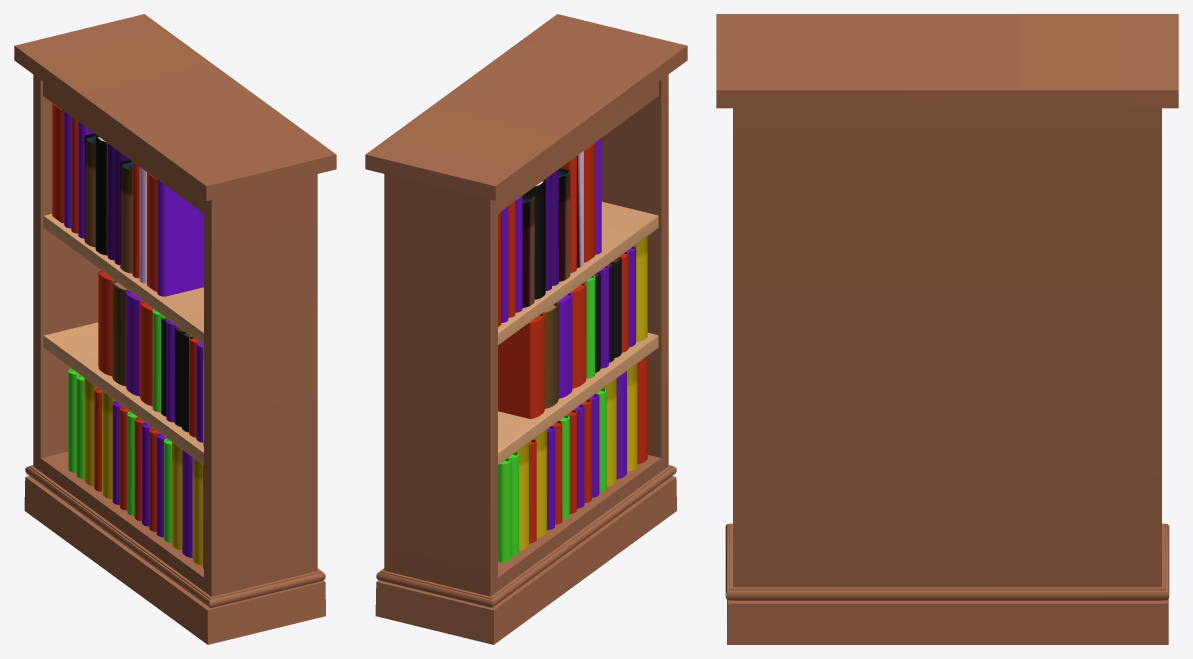
Rendered from Library.fbx.
3 renders of one model, left to right at view 1: azimuth 30°, elevation 25°; view 2: azimuth 150°, elevation 25°; view 3: azimuth 270°, elevation 25°, orthographic. The views are drawn at different scales.
Visible parts, largest first — view 1: Library; view 2: Library; view 3: Library.
Boxes of the visible parts, x1,y1,x2,y2 form: Library: (14,14,336,644); Library: (365,14,687,644); Library: (716,14,1178,644).
Bounding box in the file's own units: 167 × 567 × 426.
Materials: 1 (1 with a texture image).
